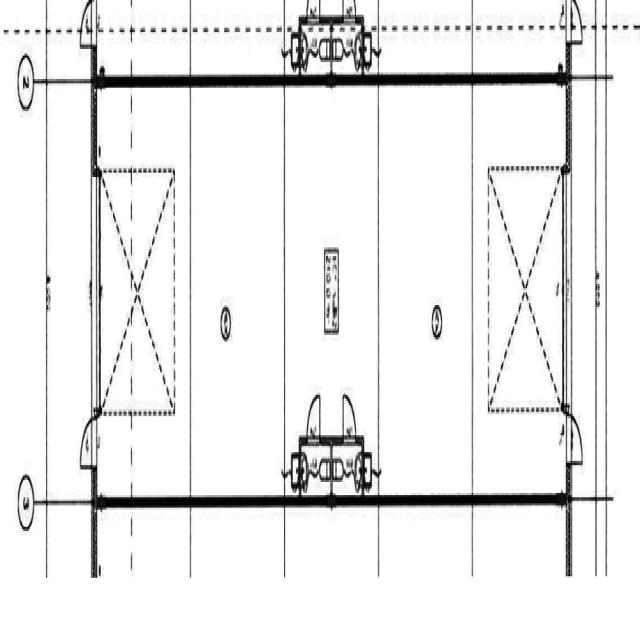door: (564, 407, 586, 469), (78, 412, 99, 473), (304, 385, 322, 442), (341, 385, 358, 442), (565, 0, 585, 48), (79, 0, 96, 48), (345, 0, 355, 20)
zone: (188, 80, 284, 505), (378, 78, 472, 500), (284, 78, 382, 446), (94, 132, 183, 445), (486, 121, 568, 412), (190, 0, 285, 76), (116, 0, 190, 78), (95, 0, 133, 76), (330, 437, 364, 498), (298, 438, 331, 498), (300, 13, 331, 70), (331, 17, 362, 69)
